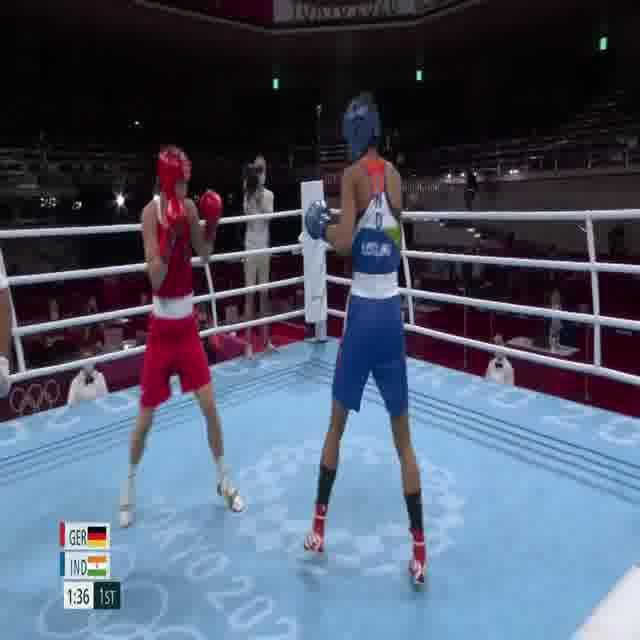blue-player: (296, 86, 437, 592)
red-player: (106, 133, 246, 537)
